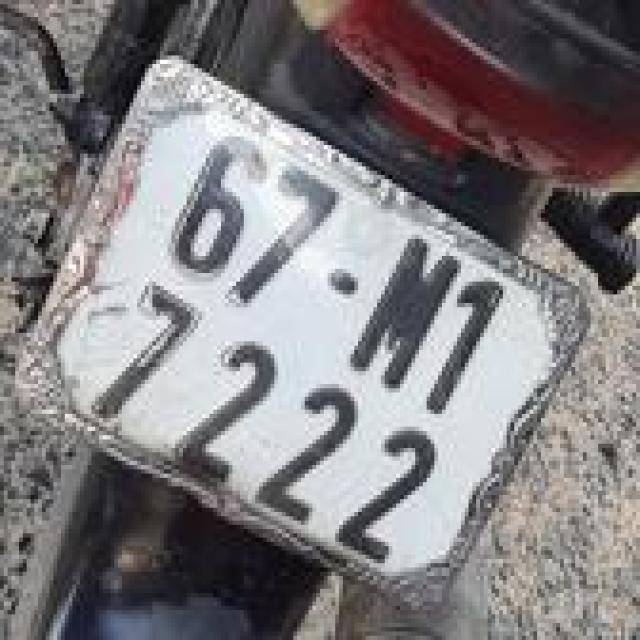1: (413, 259, 519, 425)
2: (334, 410, 456, 571), (167, 332, 289, 491), (252, 369, 372, 530)
6: (159, 123, 280, 289)
7: (216, 156, 350, 322), (83, 273, 209, 435)
M: (341, 222, 474, 405)
